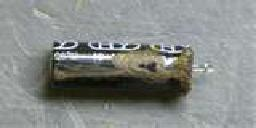Electrolytic Capacitor: (43, 33, 236, 108)
